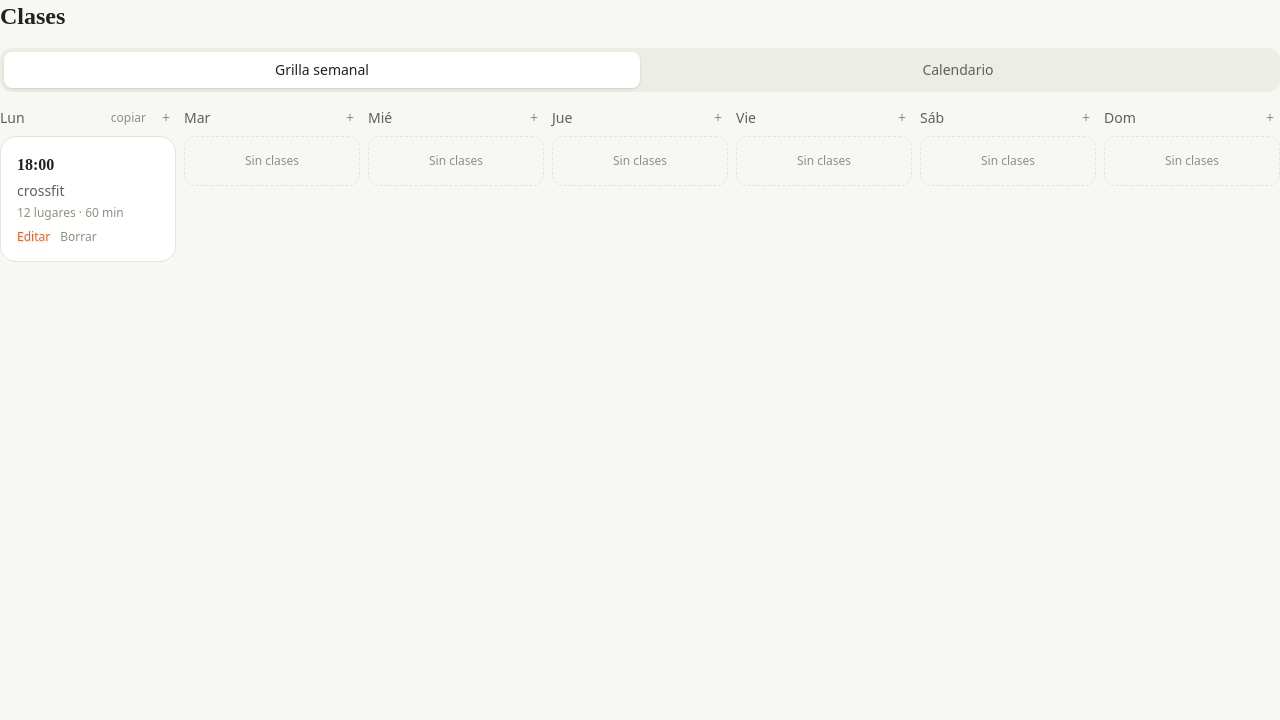
Test case: Classes — grilla semanal (F3-06) › editar avisa la propagación RN-05 antes de guardar, y la resume después
Click the button "Editar" at point(34, 237), box [17,229,50,245]
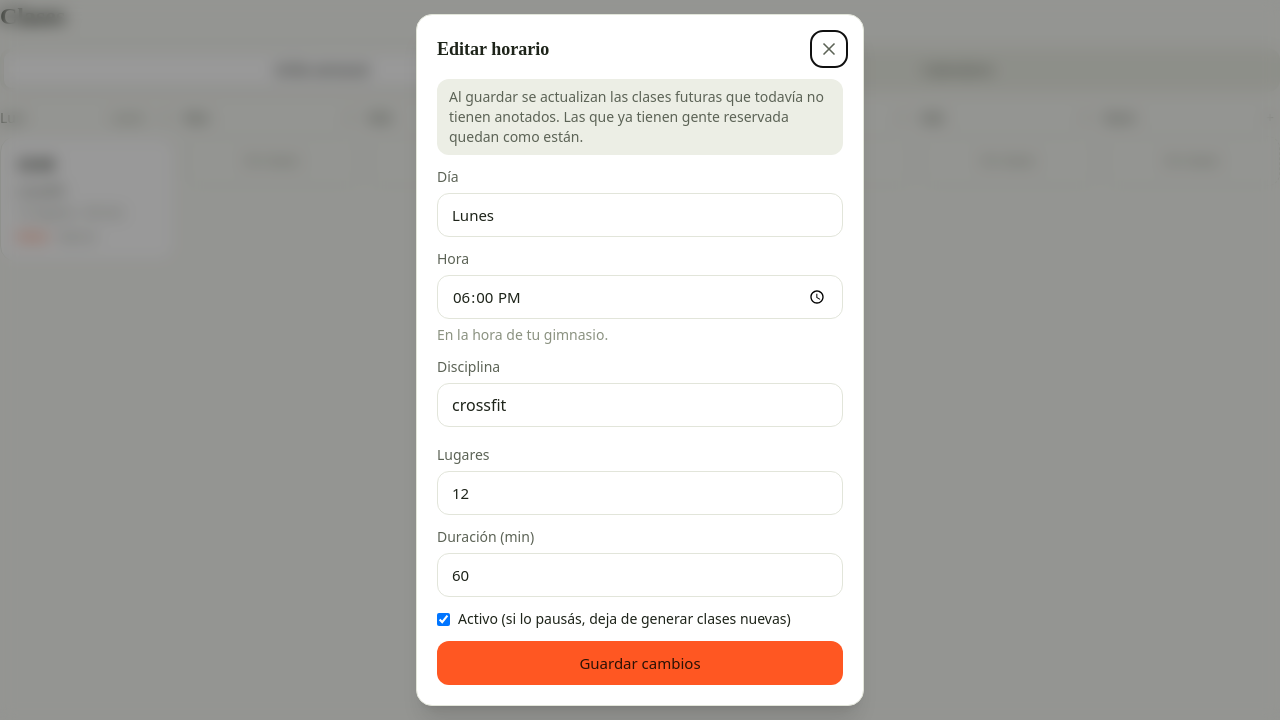
Expected: the text "Las que ya tienen gente reservada quedan como están" is shown, [449,87,824,146]
Replace the text in the time field labelled "Hora" with "19:00" at point(640, 297), box [437,275,843,319]
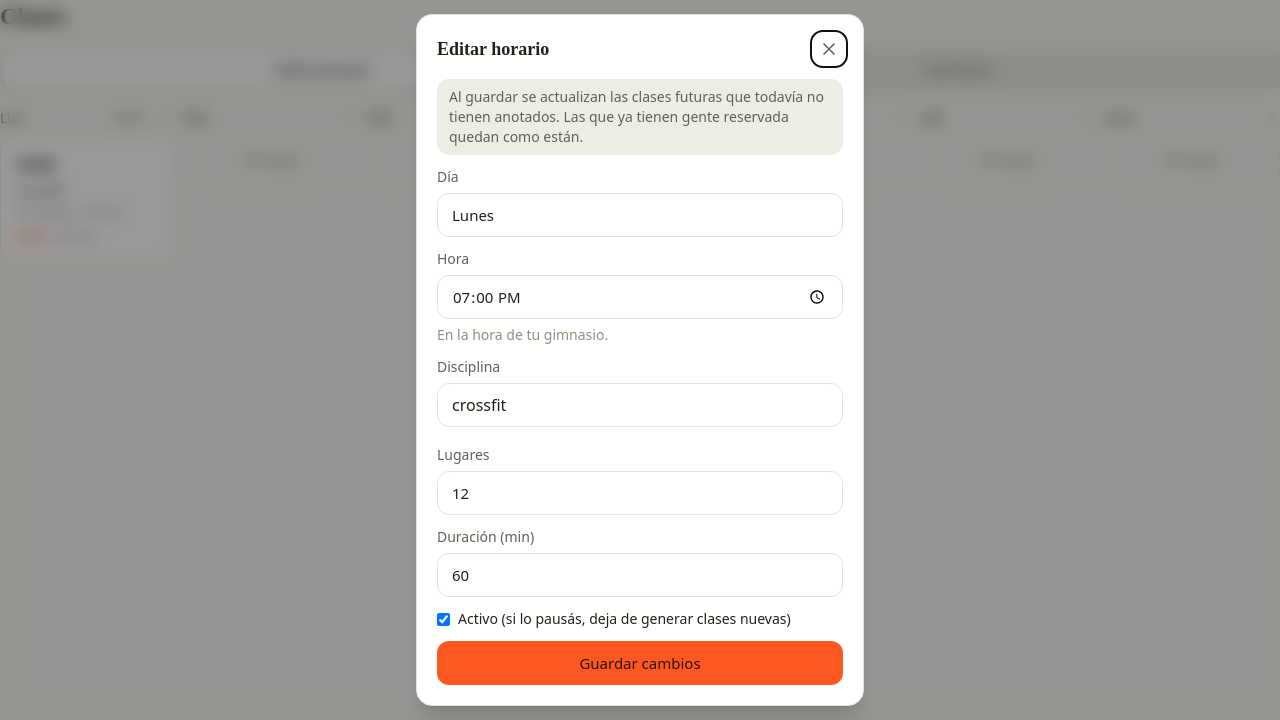
Click the button "Guardar cambios" at point(640, 663), box [437,641,843,685]
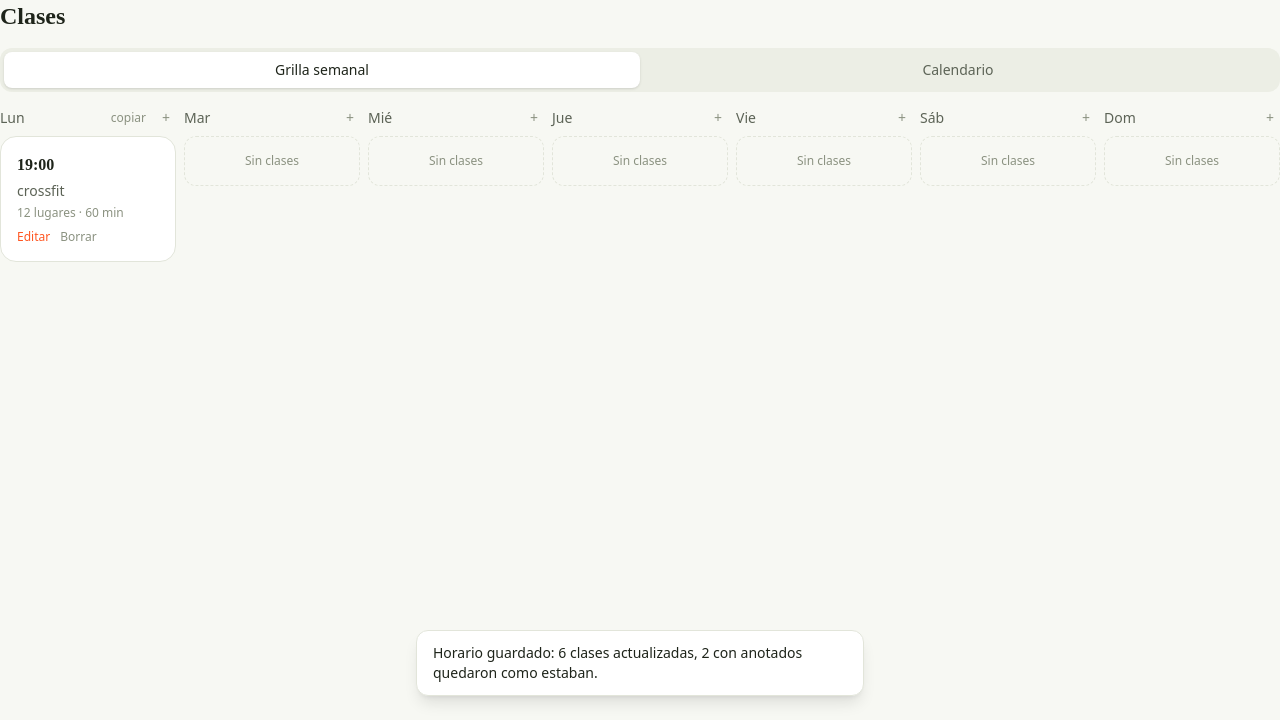
Expected: the text "Horario guardado: 6 clases actualizadas, 2 con anotados quedaron como estaban." is shown, [416,630,864,696]
